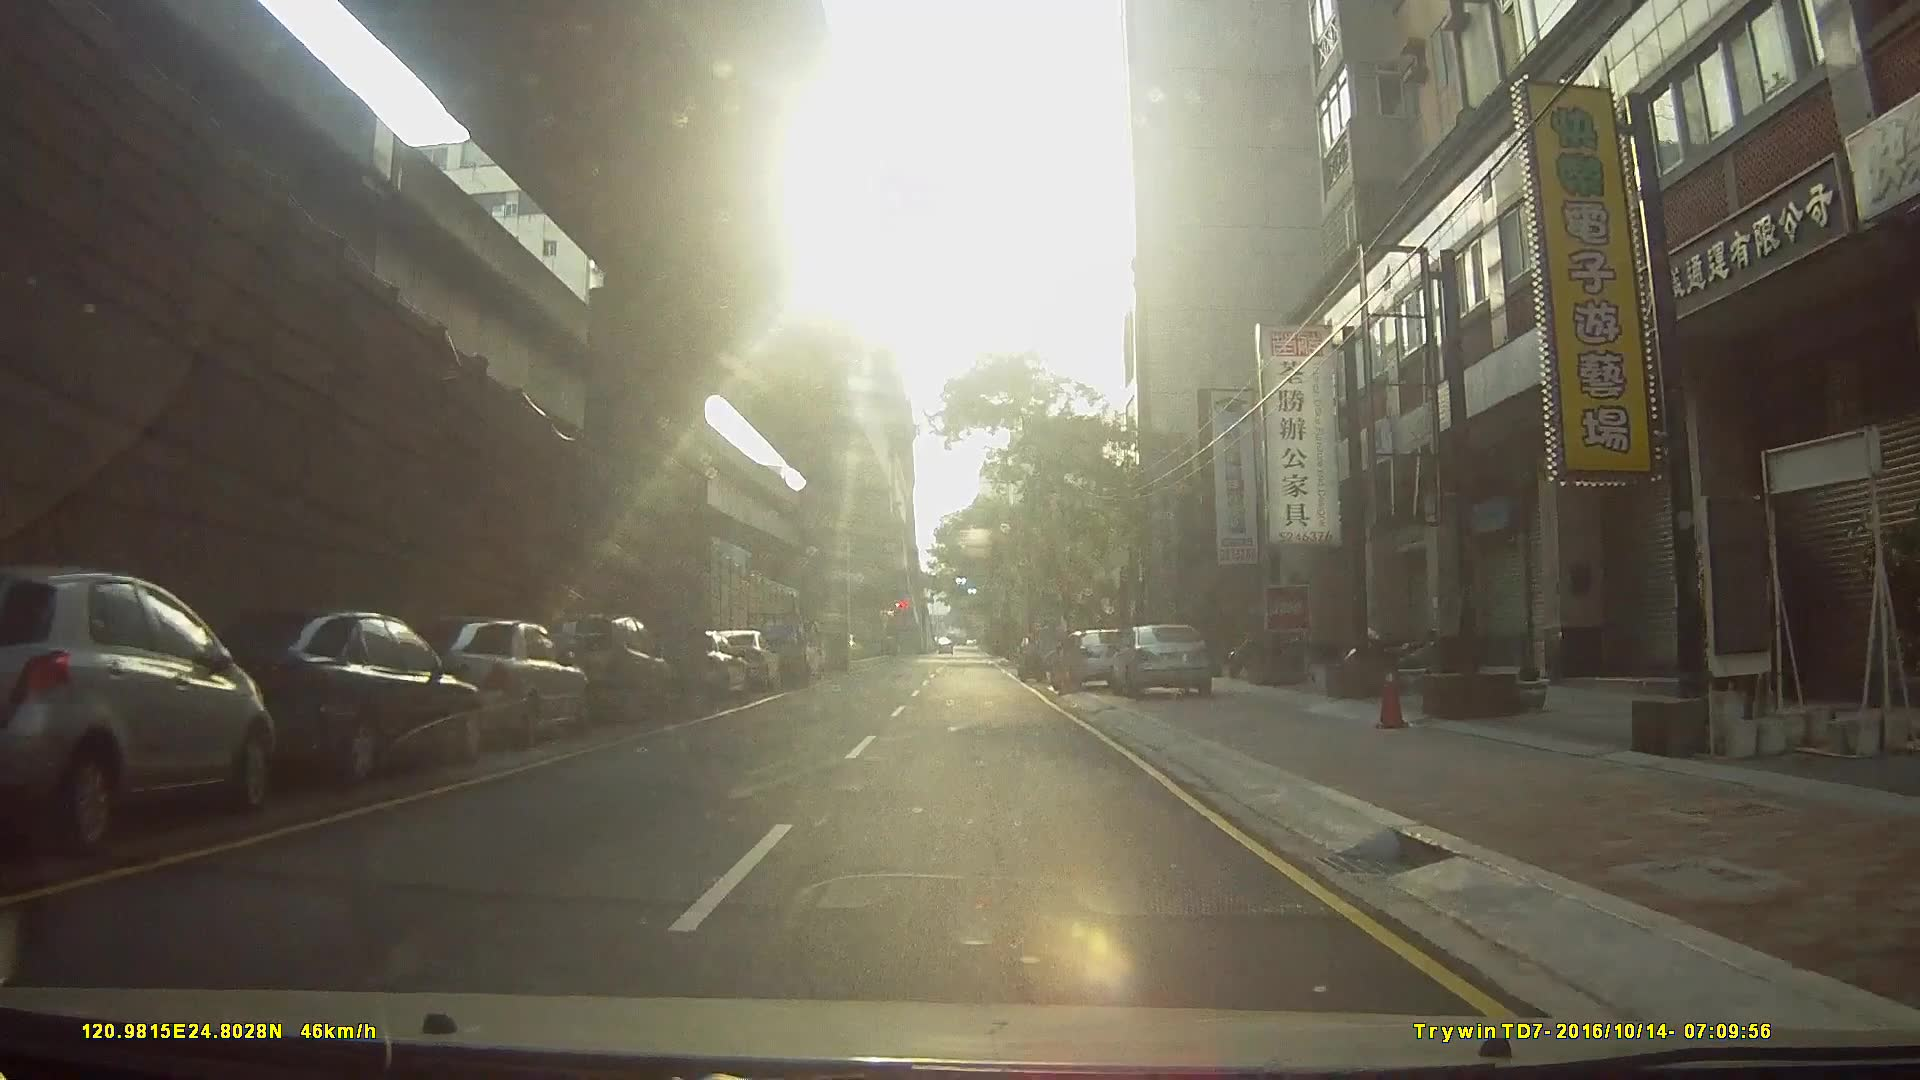rider: (1014, 622, 1045, 679)
vehicle: (1, 567, 285, 840), (179, 605, 470, 791), (404, 614, 583, 746), (531, 609, 672, 726), (1106, 620, 1214, 696), (1047, 627, 1131, 693), (703, 626, 780, 695), (741, 603, 804, 681)
